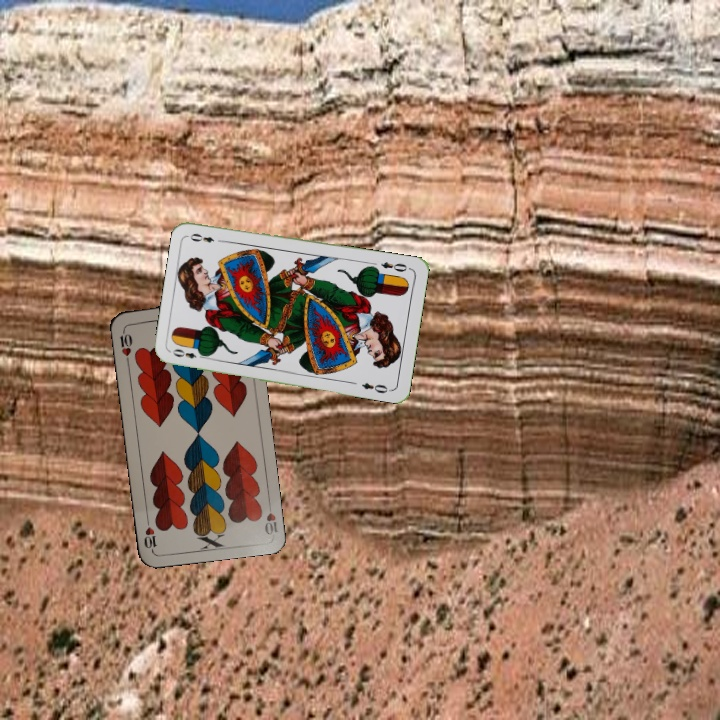EO: (168, 345, 208, 361), (377, 258, 410, 274)
H10: (260, 497, 280, 538), (115, 325, 135, 365)
